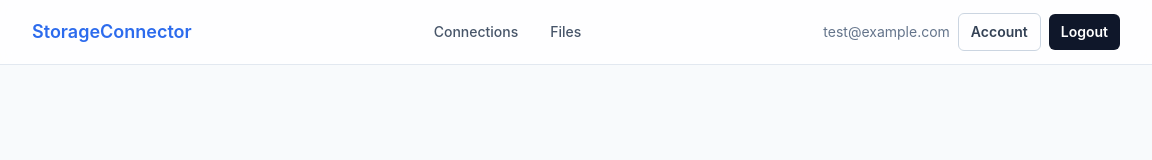
Scenario: TopNav › when user is authenticated › shows loading state during logout
Click the button "Logout".
click(1084, 32)  # box [1049,14,1120,50]
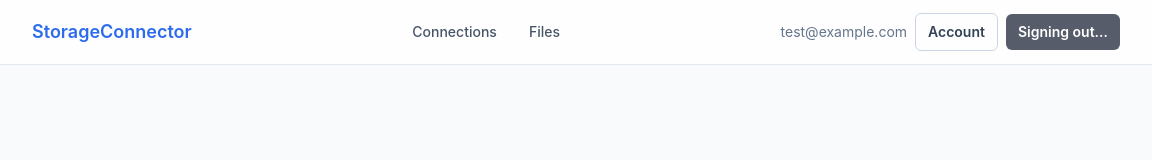
Expected: the button "Signing out…" is disabled, [1006,14,1120,50]
